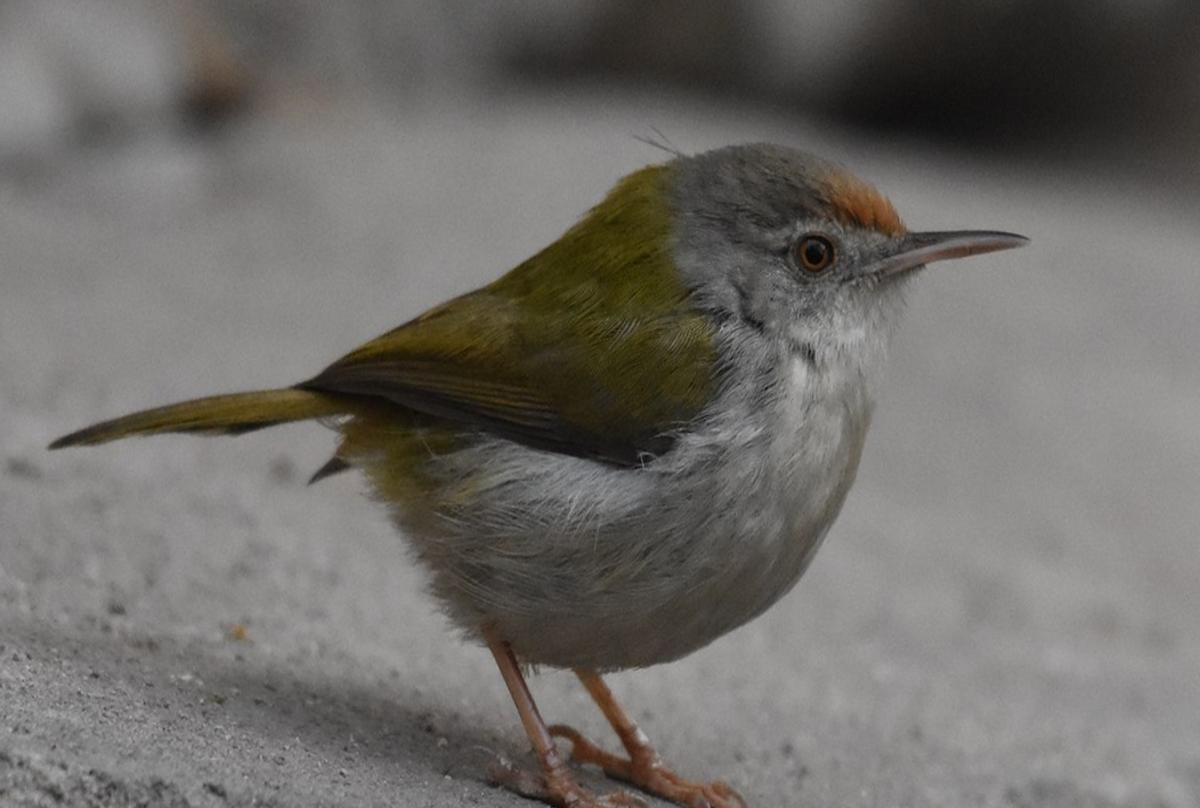tailorbird: (80, 141, 1085, 766)
